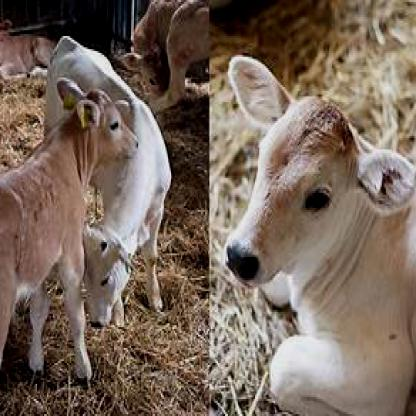cow: (221, 54, 415, 415), (2, 78, 138, 392), (46, 36, 171, 327)
